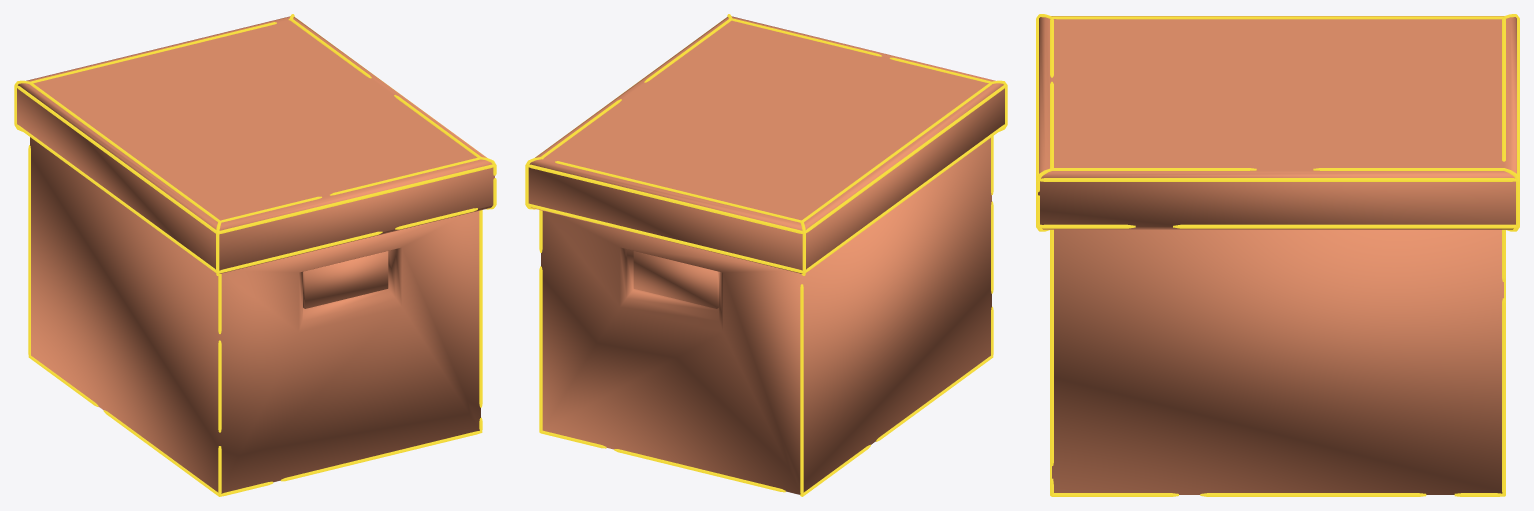
Rendered from Skillkit 1.fbx.
The picture shows the model from 3 angles, left to right: view 1: azimuth 30°, elevation 25°; view 2: azimuth 150°, elevation 25°; view 3: azimuth 270°, elevation 25°; orthographic projection. The views are drawn at different scales.
Parts seen in each view (by area): view 1: Karton.001, Outline; view 2: Karton.001, Outline; view 3: Karton.001, Outline.
Boxes of the visible parts, x1,y1,x2,y2 form: Karton.001: [17, 16, 494, 493]; Outline: [14, 14, 496, 496]; Karton.001: [528, 16, 1004, 494]; Outline: [525, 14, 1007, 496]; Karton.001: [1038, 16, 1516, 494]; Outline: [1036, 14, 1519, 496].
Size of the model in its own units: 37.56 by 35.4 by 47.23.
